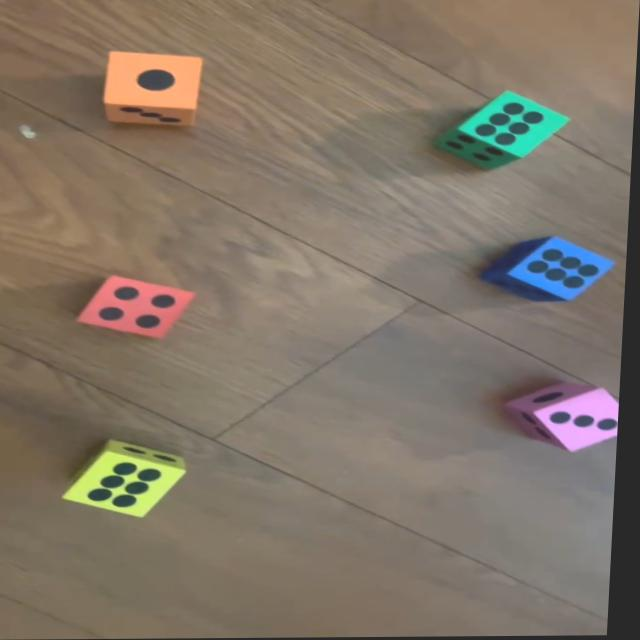blue_block: (484, 236, 621, 302)
red_block: (81, 276, 201, 338)
